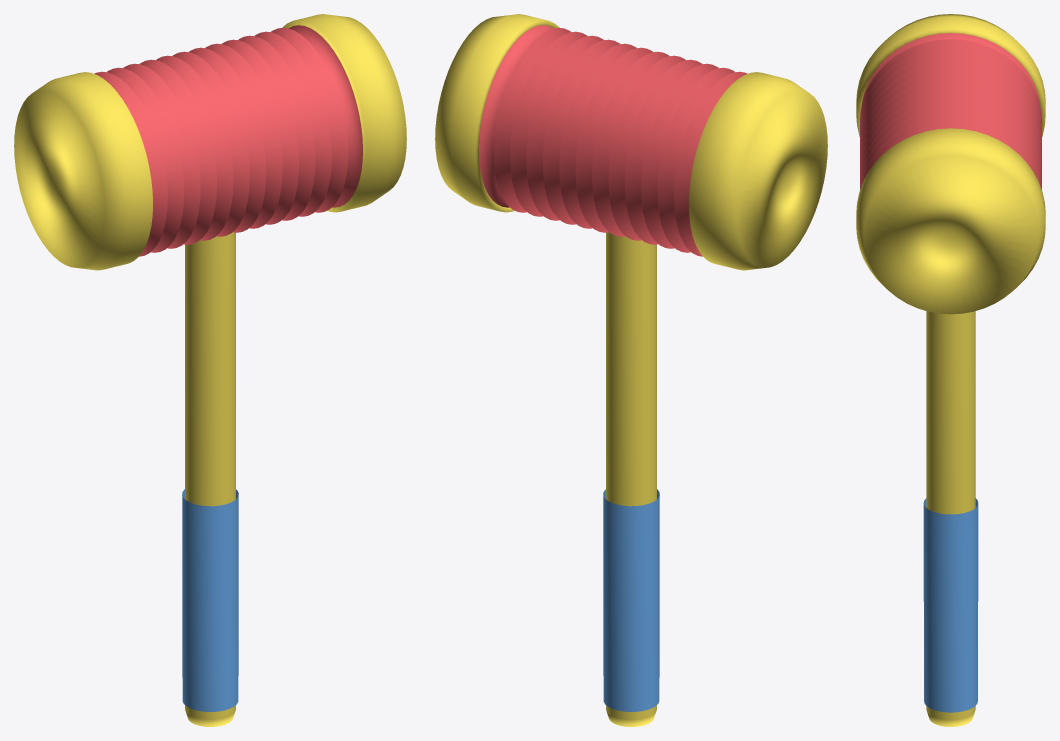
File: piko_hammer.glb
The picture shows the model from 3 angles, left to right: view 1: azimuth 30°, elevation 25°; view 2: azimuth 150°, elevation 25°; view 3: azimuth 270°, elevation 25°; orthographic projection. The views are drawn at different scales.
Parts seen in each view (by area): view 1: Head, Handle; view 2: Head, Handle; view 3: Head, Handle.
Part boxes in pixels (x1=…): Head: x1=14, y1=14, x2=406, y2=270; Handle: x1=182, y1=232, x2=238, y2=726; Head: x1=435, y1=14, x2=827, y2=270; Handle: x1=603, y1=232, x2=659, y2=726; Head: x1=856, y1=14, x2=1045, y2=314; Handle: x1=923, y1=311, x2=978, y2=726.
Bounding box in the file's own units: 0.19 × 0.387 × 0.104.
